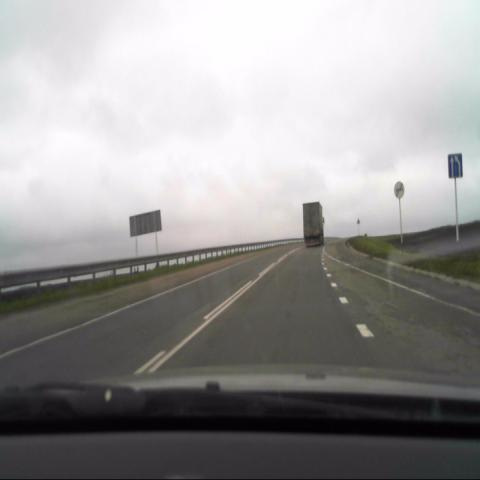3_21: (393, 179, 406, 200)
